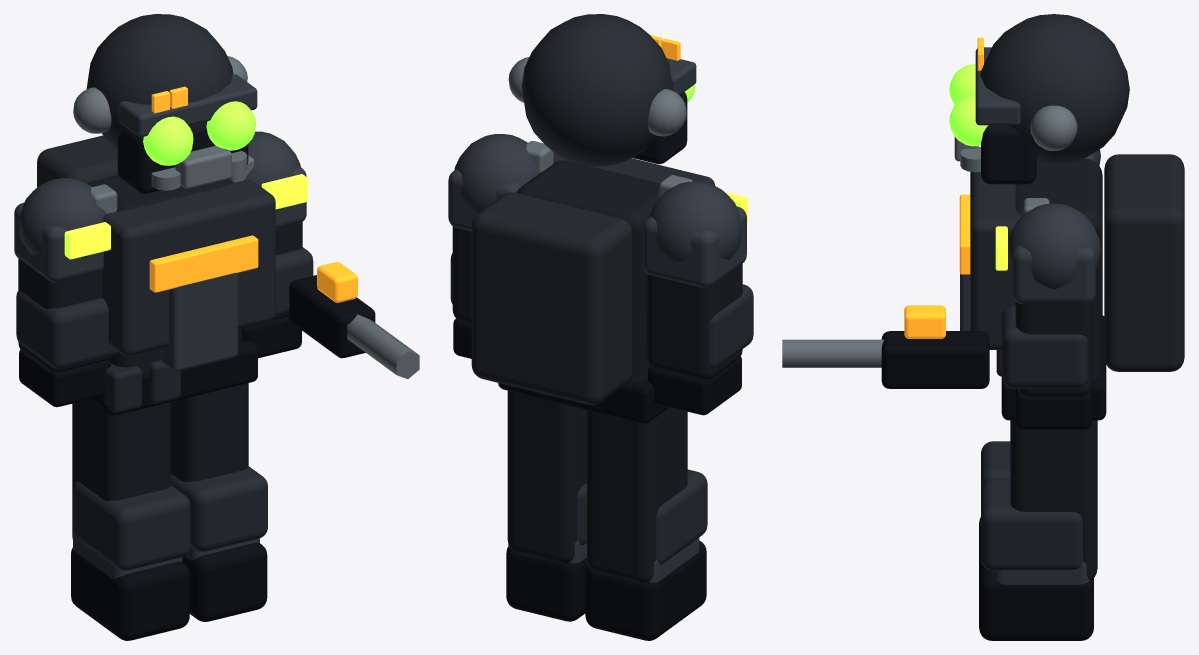
The model's file is assault_l02.glb.
The picture shows the model from 3 angles, left to right: view 1: azimuth 30°, elevation 25°; view 2: azimuth 150°, elevation 25°; view 3: azimuth 270°, elevation 25°; orthographic projection. The views are drawn at different scales.
Parts seen in each view (by area): view 1: segmented_vest, trouser (×2), shaped_knee_guard (×2), boot (×2), rounded_helmet, forearm_plate (×2), front_plate, shoulder_joint (×2), glove (×2), carbine_body, dzn_chest_flash, sleeve (×2) (+18 smaller); view 2: field_pack, trouser (×2), rounded_helmet, boot (×2), shoulder_joint (×2), sleeve (×2), body, shoulder_plate (×2), glove (×2), shaped_knee_guard (×2), forearm_plate, belt (+6 smaller); view 3: field_pack, rounded_helmet, trouser, shaped_knee_guard (×2), boot, segmented_vest, carbine_body, shoulder_joint, forearm_plate, body, sleeve, shoulder_plate (+13 smaller).
Boxes of the visible parts, x1,y1,x2,y2 form: segmented_vest: [102, 180, 275, 355]; trouser (×2): [72, 383, 248, 539]; shaped_knee_guard (×2): [73, 466, 267, 570]; boot (×2): [71, 542, 267, 640]; rounded_helmet: [86, 14, 233, 149]; forearm_plate (×2): [16, 247, 313, 369]; front_plate: [162, 273, 237, 371]; shoulder_joint (×2): [19, 131, 300, 257]; glove (×2): [19, 316, 301, 407]; carbine_body: [289, 275, 375, 358]; dzn_chest_flash: [149, 235, 258, 292]; sleeve (×2): [18, 222, 302, 372]; field_pack: [471, 192, 632, 405]; trouser (×2): [507, 390, 687, 583]; rounded_helmet: [521, 14, 672, 166]; boot (×2): [506, 540, 706, 640]; shoulder_joint (×2): [454, 134, 741, 262]; sleeve (×2): [452, 226, 742, 379]; body: [516, 160, 659, 382]; shoulder_plate (×2): [448, 169, 746, 288]; glove (×2): [453, 318, 741, 415]; shaped_knee_guard (×2): [577, 469, 707, 564]; forearm_plate: [646, 284, 753, 368]; belt: [498, 378, 669, 423]; field_pack: [1104, 154, 1184, 371]; rounded_helmet: [980, 14, 1129, 165]; trouser: [1010, 420, 1097, 579]; shaped_knee_guard (×2): [981, 441, 1082, 570]; boot: [979, 555, 1093, 640]; segmented_vest: [970, 171, 1021, 349]; carbine_body: [881, 331, 989, 388]; shoulder_joint: [1008, 203, 1100, 288]; forearm_plate: [1001, 306, 1087, 388]; body: [1015, 158, 1102, 378]; sleeve: [1015, 301, 1092, 396]; shoulder_plate: [1012, 225, 1095, 303].
Size of the model in its own units: 0.91 by 1.86 by 1.16.
